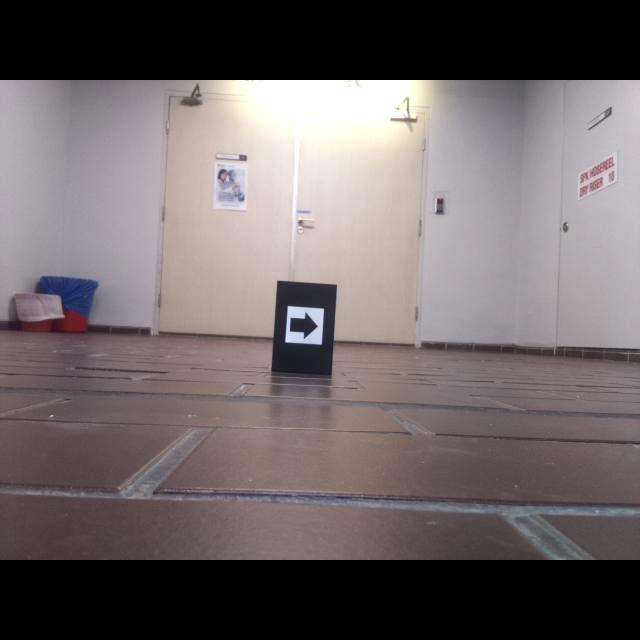RIGHT: (289, 310, 318, 341)
